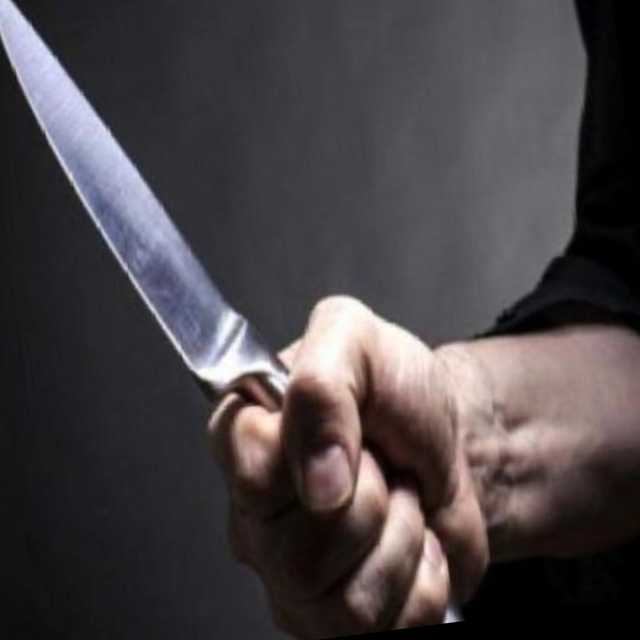Sharp-Object: (0, 0, 297, 439)
